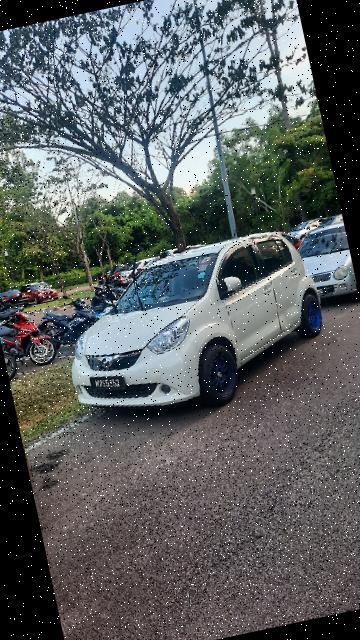License_Plate: (91, 370, 133, 400)
car: (45, 221, 342, 434)
